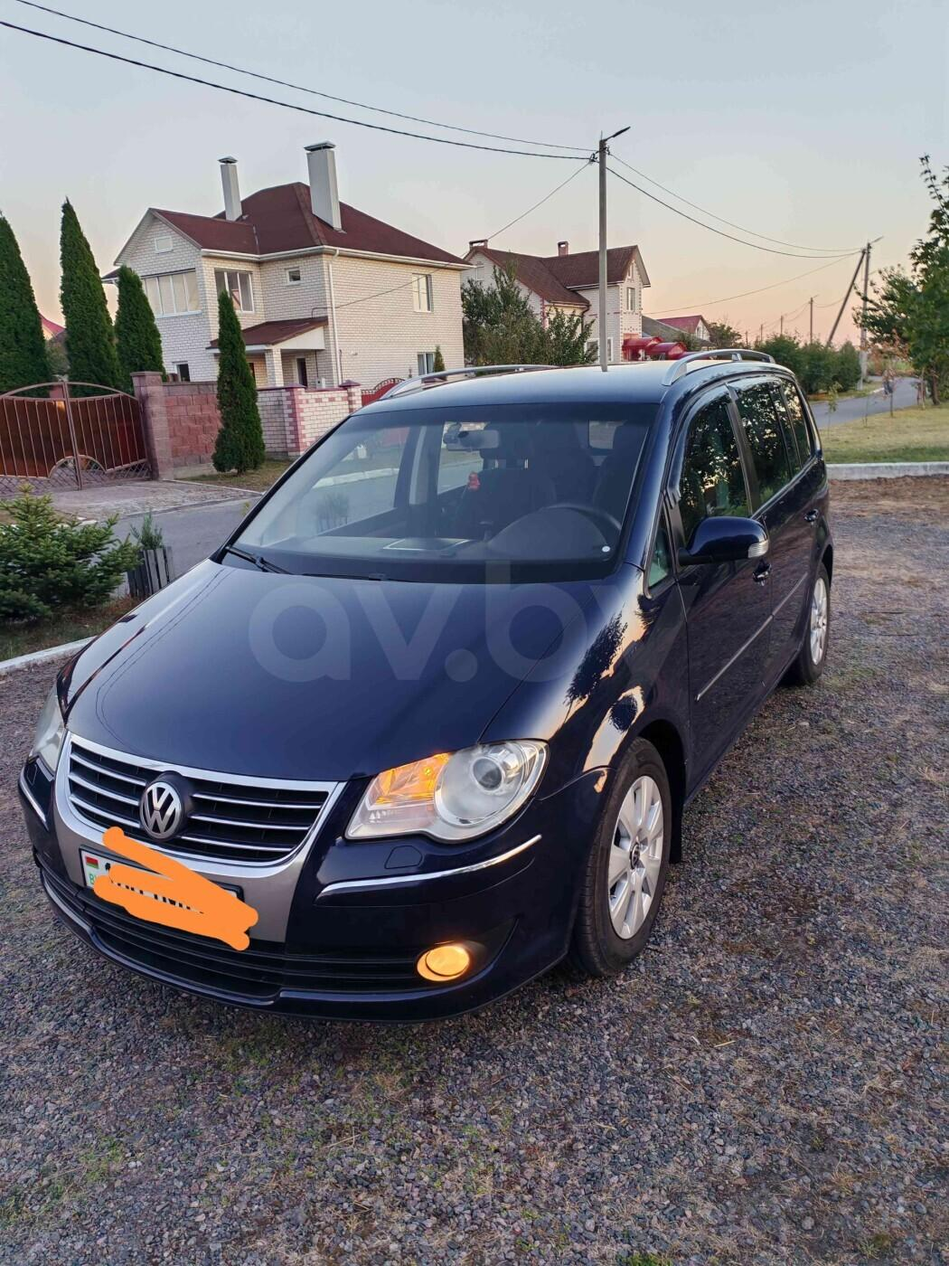Touran_2006-2010: (22, 356, 842, 1002)
